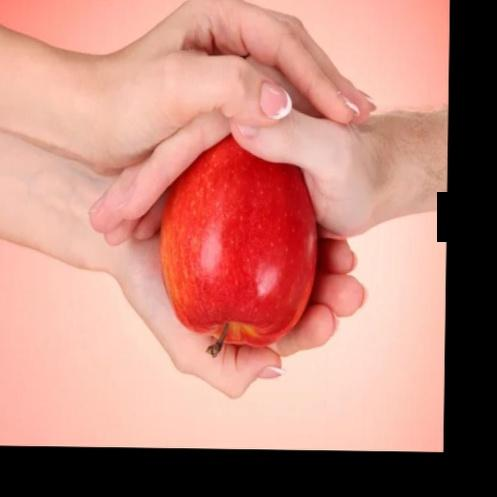red apple: (154, 132, 317, 348)
